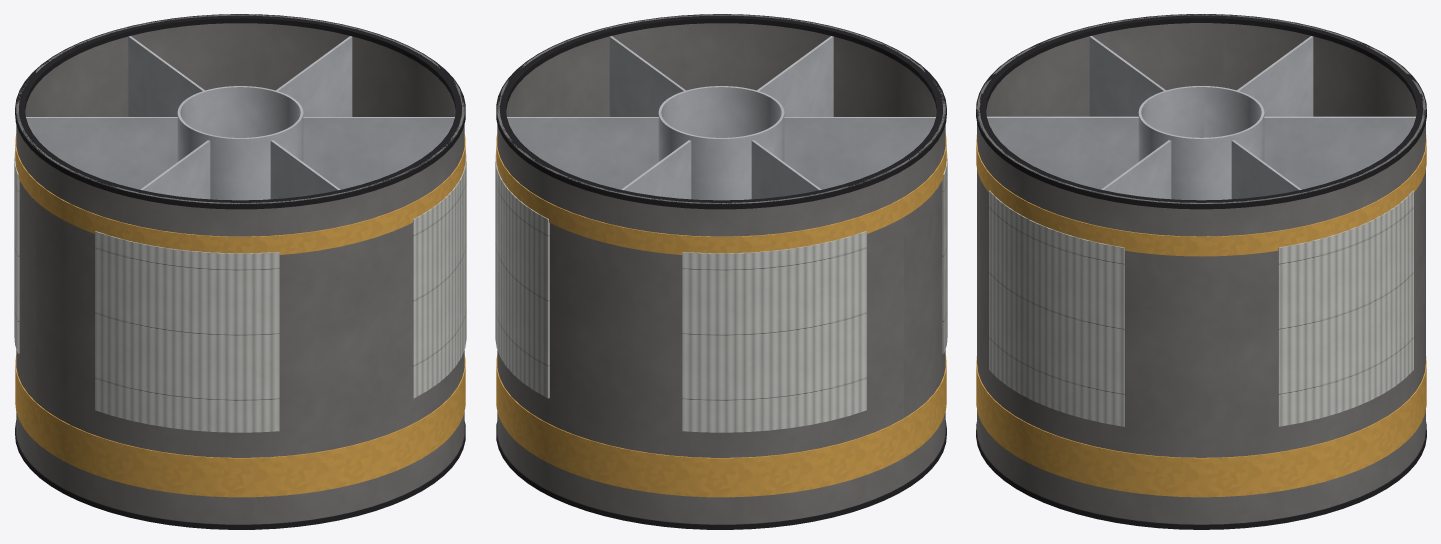
Rendered from cmd10_service_bay_xl.glb.
The picture shows the model from 3 angles, left to right: view 1: azimuth 30°, elevation 25°; view 2: azimuth 150°, elevation 25°; view 3: azimuth 270°, elevation 25°; orthographic projection.
Visible parts, largest first — view 1: skin, radiator_panels, sector_bulkheads, mli_bands, stack_rings, central_tube; view 2: skin, radiator_panels, sector_bulkheads, mli_bands, stack_rings, central_tube; view 3: skin, radiator_panels, sector_bulkheads, mli_bands, stack_rings, central_tube.
Part boxes in pixels (x1,y1,x2,y2): skin: [16, 14, 464, 524]; radiator_panels: [14, 150, 466, 432]; sector_bulkheads: [26, 36, 454, 199]; mli_bands: [15, 134, 465, 497]; stack_rings: [15, 14, 465, 529]; central_tube: [177, 86, 303, 200]; skin: [497, 14, 945, 524]; radiator_panels: [495, 150, 947, 432]; sector_bulkheads: [507, 36, 935, 199]; mli_bands: [496, 134, 946, 497]; stack_rings: [496, 14, 946, 529]; central_tube: [658, 86, 784, 200]; skin: [977, 14, 1425, 524]; radiator_panels: [989, 190, 1413, 426]; sector_bulkheads: [987, 36, 1415, 199]; mli_bands: [976, 135, 1426, 497]; stack_rings: [976, 14, 1426, 529]; central_tube: [1138, 86, 1264, 200].
Bounding box in the file's own units: 5.02 × 4 × 5.02.
Materials: 6 (4 with a texture image).
